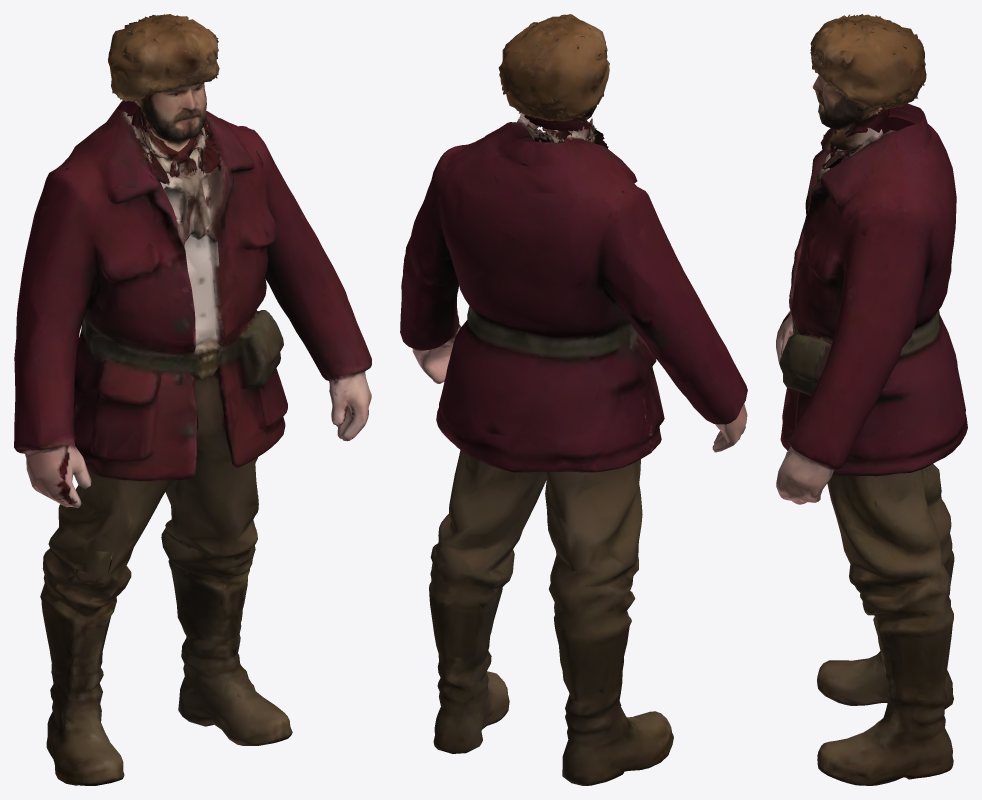
The model's file is trader.glb.
3 renders of one model, left to right at view 1: azimuth 30°, elevation 25°; view 2: azimuth 150°, elevation 25°; view 3: azimuth 270°, elevation 25°, orthographic. The views are drawn at different scales.
Visible parts, largest first — view 1: trader.raw; view 2: trader.raw; view 3: trader.raw.
Boxes of the visible parts, bbox=[...] form: trader.raw: bbox=[14, 14, 371, 785]; trader.raw: bbox=[400, 14, 747, 785]; trader.raw: bbox=[776, 14, 967, 785].
Bounding box in the file's own units: 0.8873 × 1.8 × 0.4369.
1 material, 1 textured.
